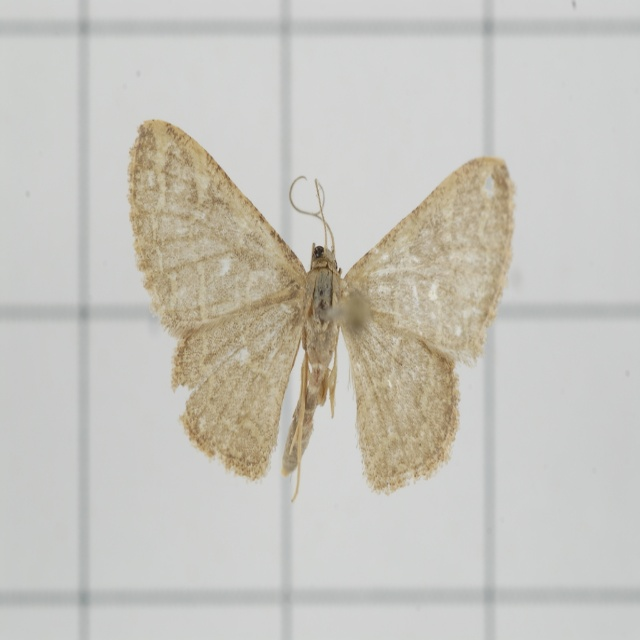Butterfly: (105, 128, 518, 508)
